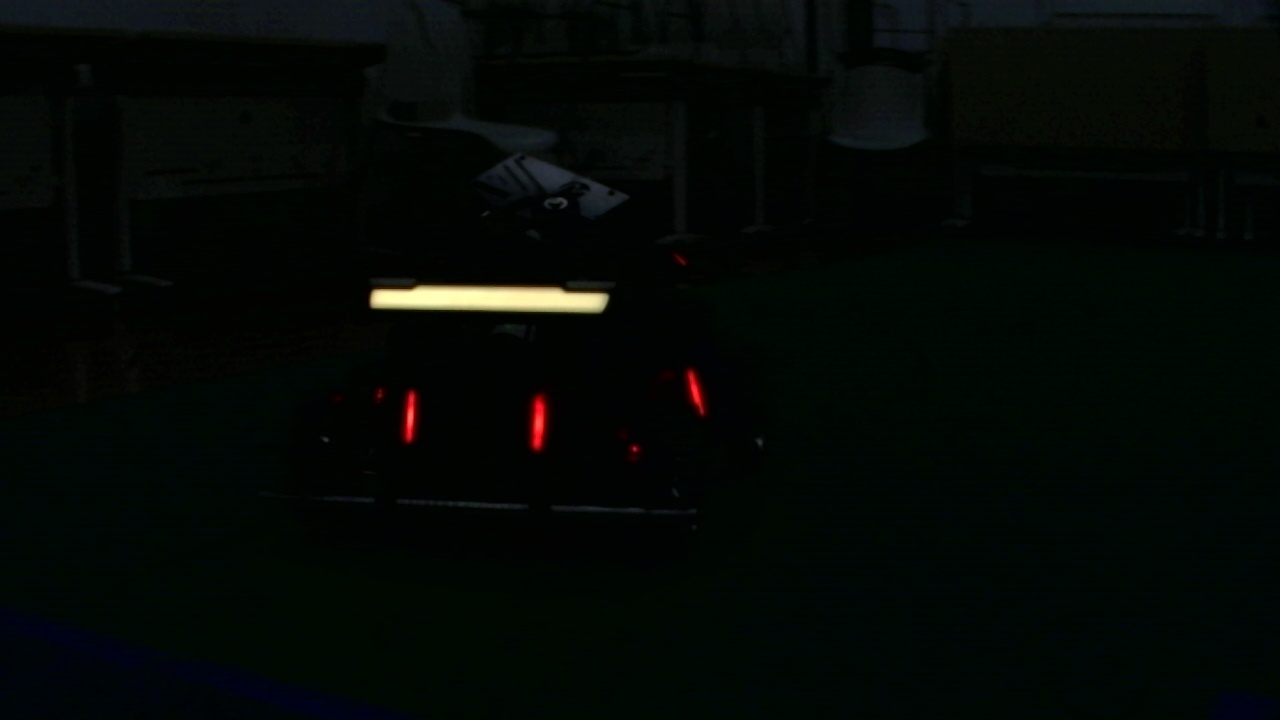lamp: (525, 389, 551, 462), (399, 391, 421, 451), (680, 370, 707, 418)
notpair1: (526, 364, 707, 465)
pair1: (400, 390, 553, 460)
